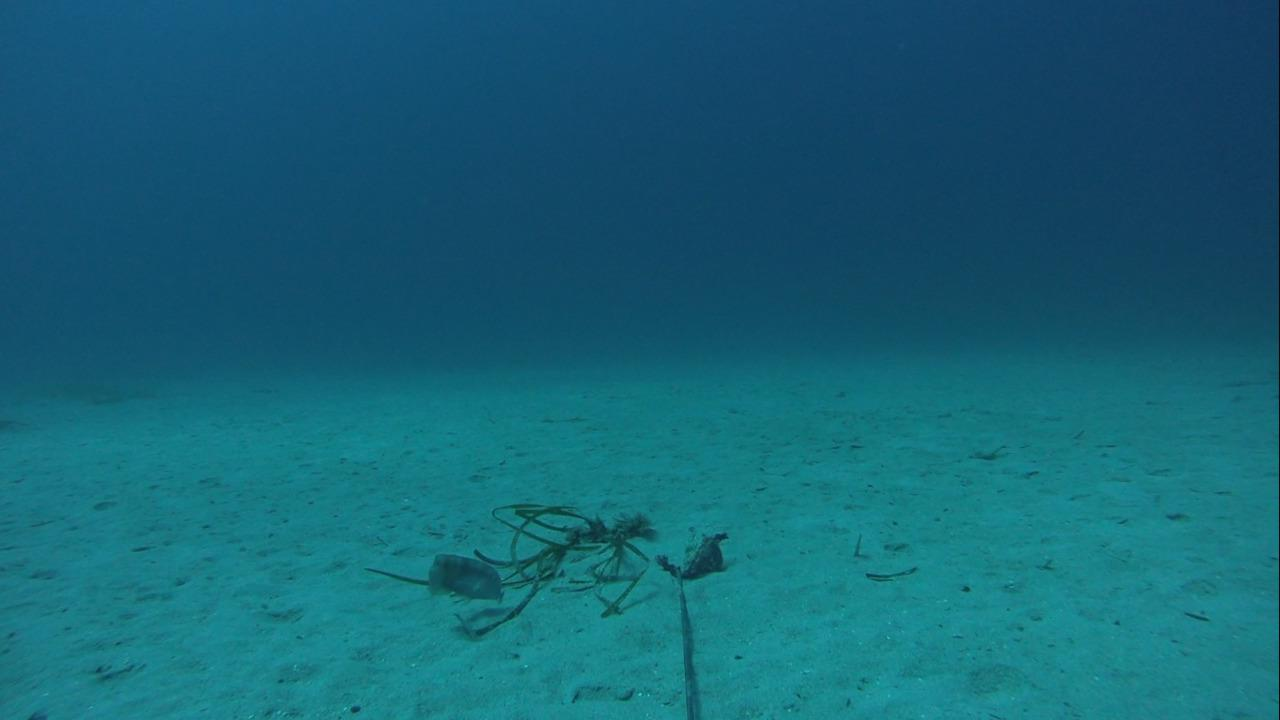raor: (420, 547, 507, 605)
